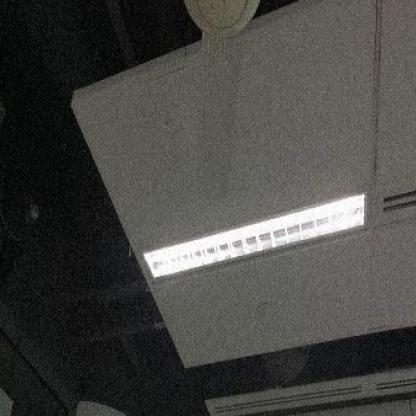light_on: (136, 175, 373, 300)
